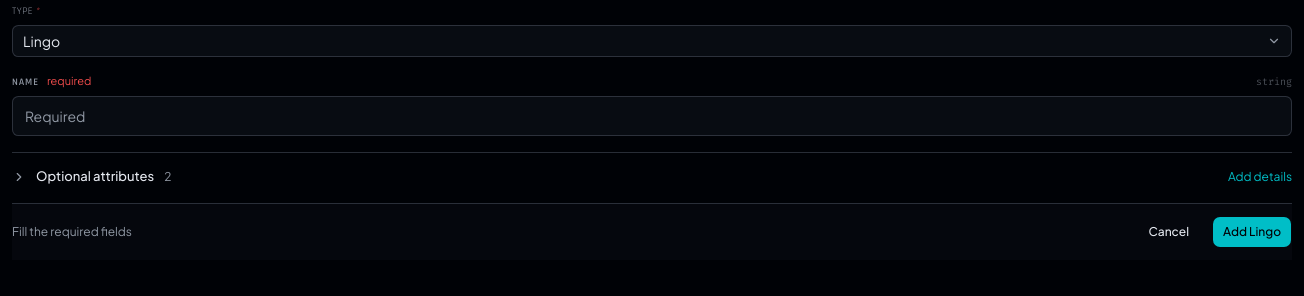
it: AddNodeForm — error body surfacing › a. displays the Jarvis 400 message body instead of generic fallback
Type "test lingo" into the field with placeholder "Required".
click(652, 116); type("test lingo")  # box [12,96,1292,136]
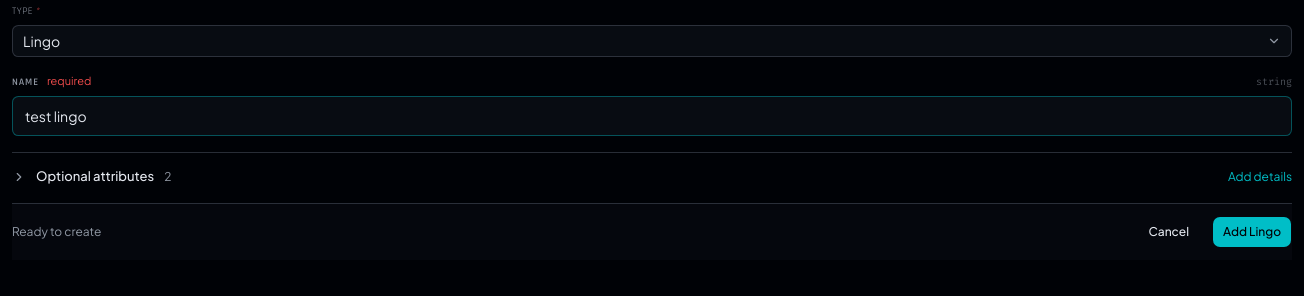
Click the button "Add Lingo".
click(1252, 232)  # box [1212,216,1292,248]
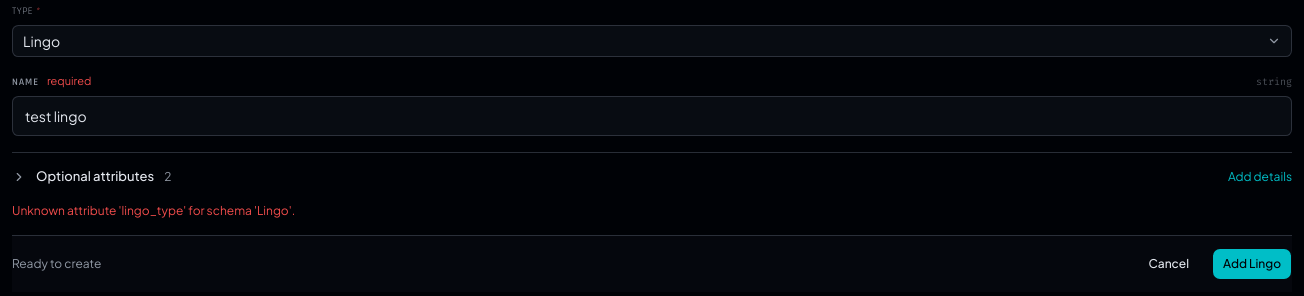
Result: the text "Unknown attribute 'lingo_type' for schema 'Lingo'." is shown at [12,202,295,218]
